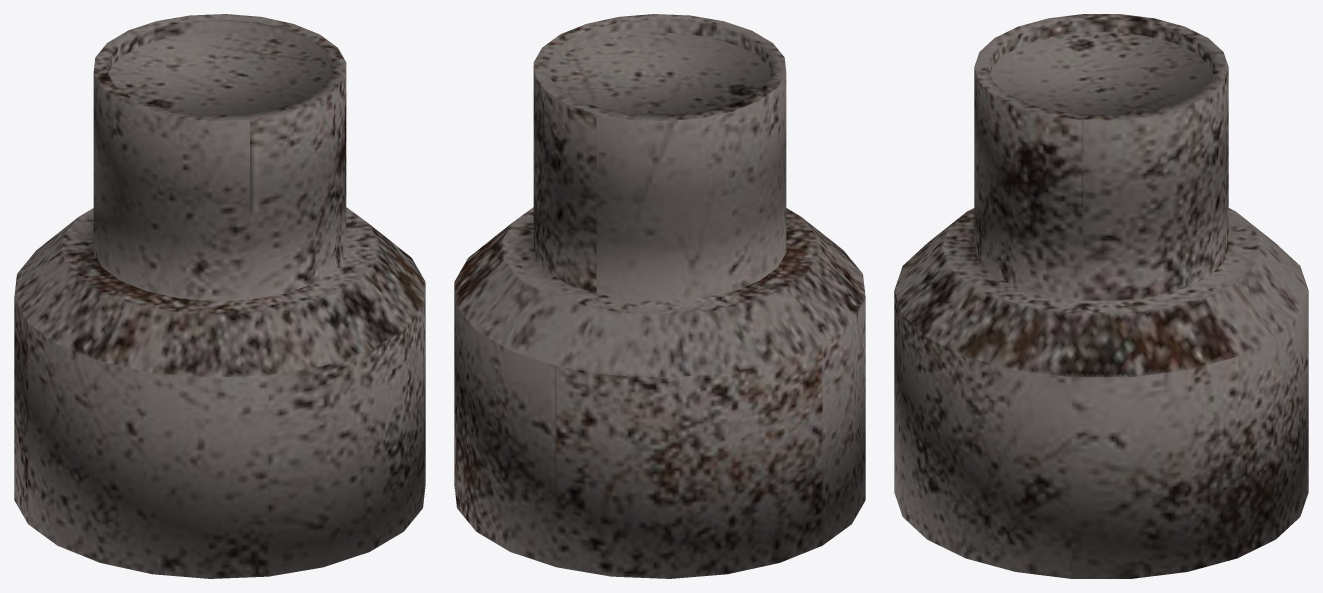
The model's file is item12.fbx.
The picture shows the model from 3 angles, left to right: view 1: azimuth 30°, elevation 25°; view 2: azimuth 150°, elevation 25°; view 3: azimuth 270°, elevation 25°; orthographic projection.
Parts seen in each view (by area): view 1: Item12; view 2: Item12; view 3: Item12.
Boxes of the visible parts, left/top/right/bottom form: Item12: left=14, top=14, right=425, bottom=578; Item12: left=454, top=14, right=865, bottom=578; Item12: left=894, top=14, right=1308, bottom=578.
Bounding box in the file's own units: 144 × 165 × 146.
